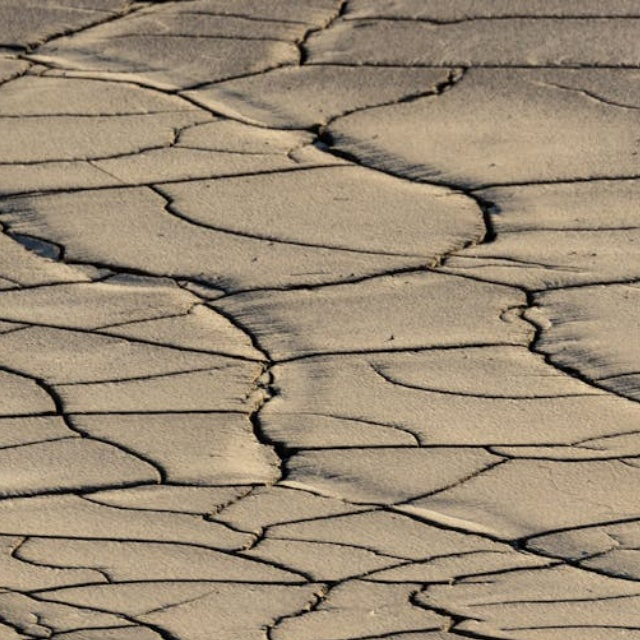网状裂隙: (0, 239, 640, 640)
